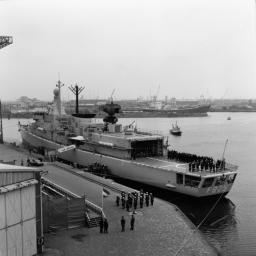Fragata: (15, 76, 240, 199)
